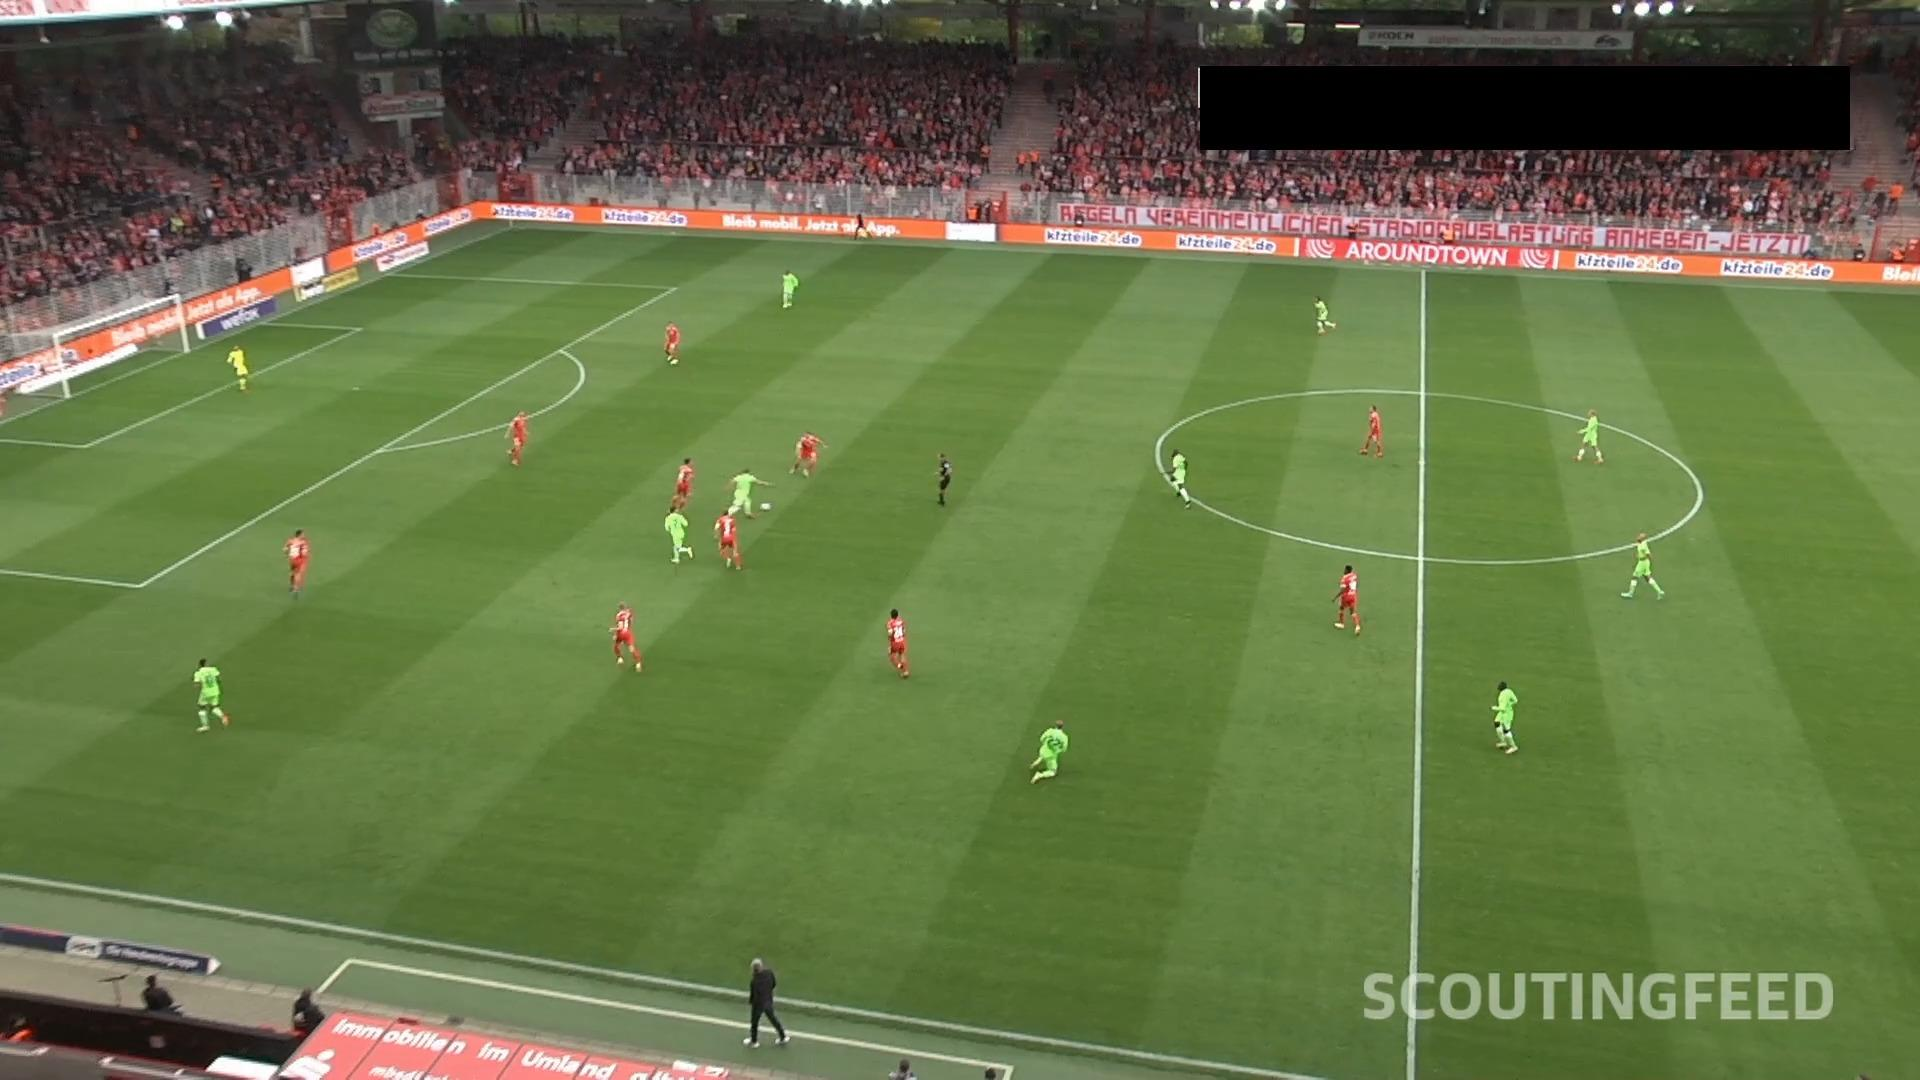ball: (758, 500, 771, 514)
